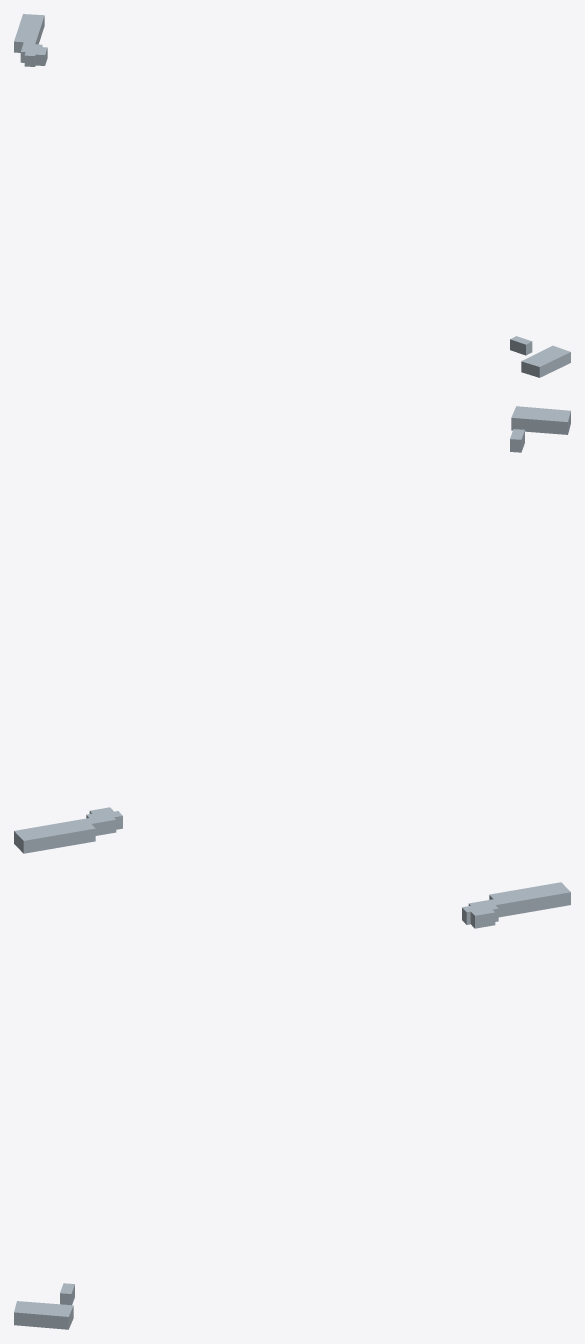
3 renders of one model, top to bottom at view 1: azimuth 30°, elevation 25°; view 2: azimuth 150°, elevation 25°; view 3: azimuth 330°, elevation 25°, orthographic. The views are drawn at different scales.
Size of what is drawn, in the model's own units: 81.5 by 8 by 653.
